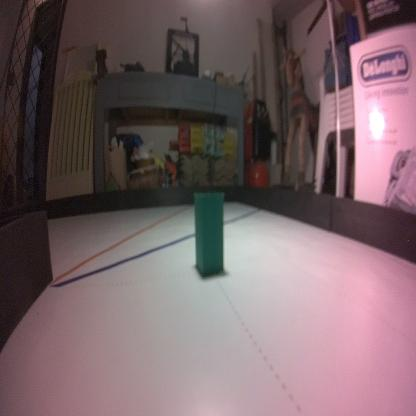green: (193, 190, 228, 278)
